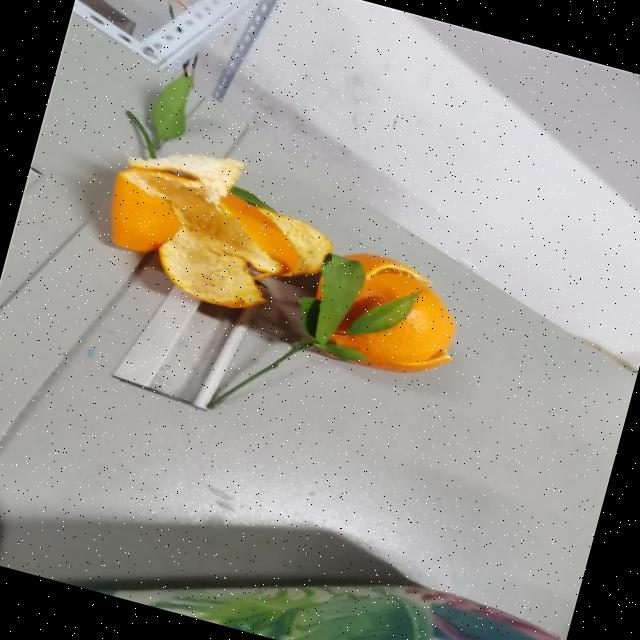orange-peel: (83, 134, 486, 388), (298, 239, 472, 387)
